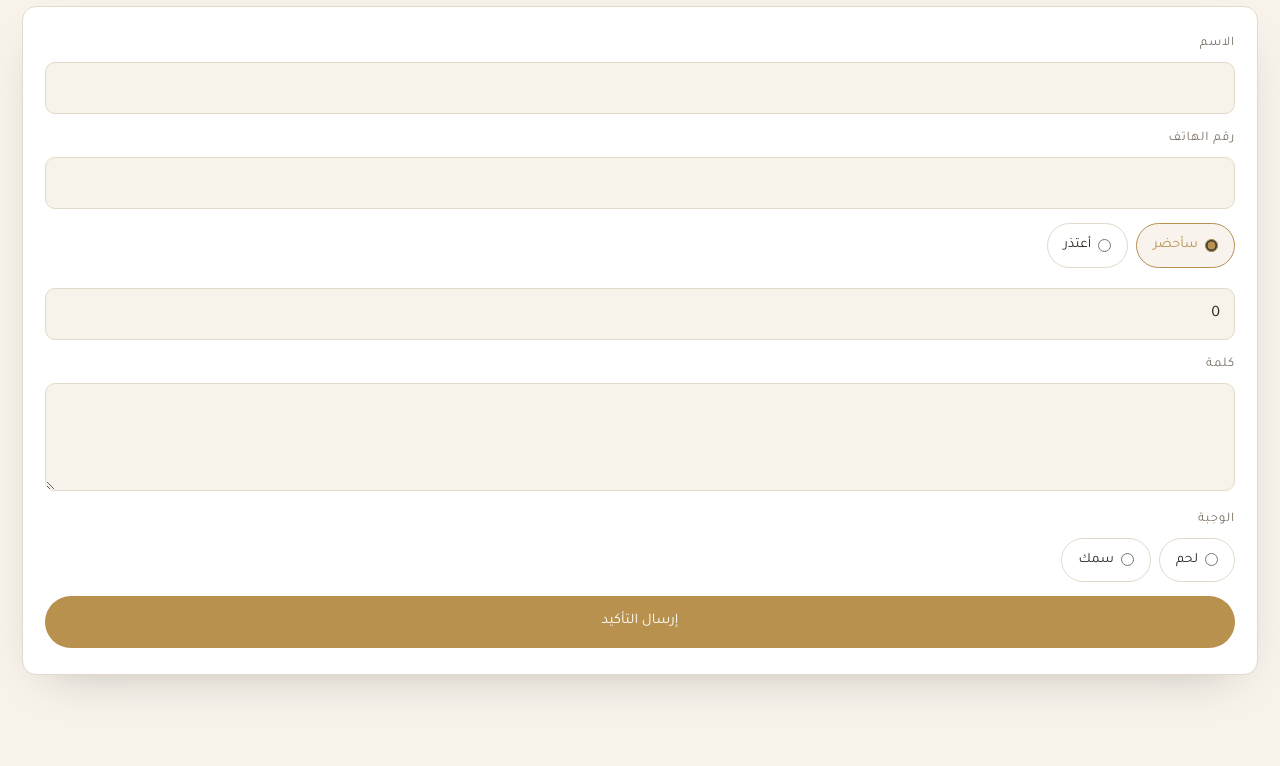
it: Rsvp › posts the answers as JSON with the CSRF header and shows the success state and pass
Type "منى" into the field named "name" at (640, 88), box [45,62,1235,114]
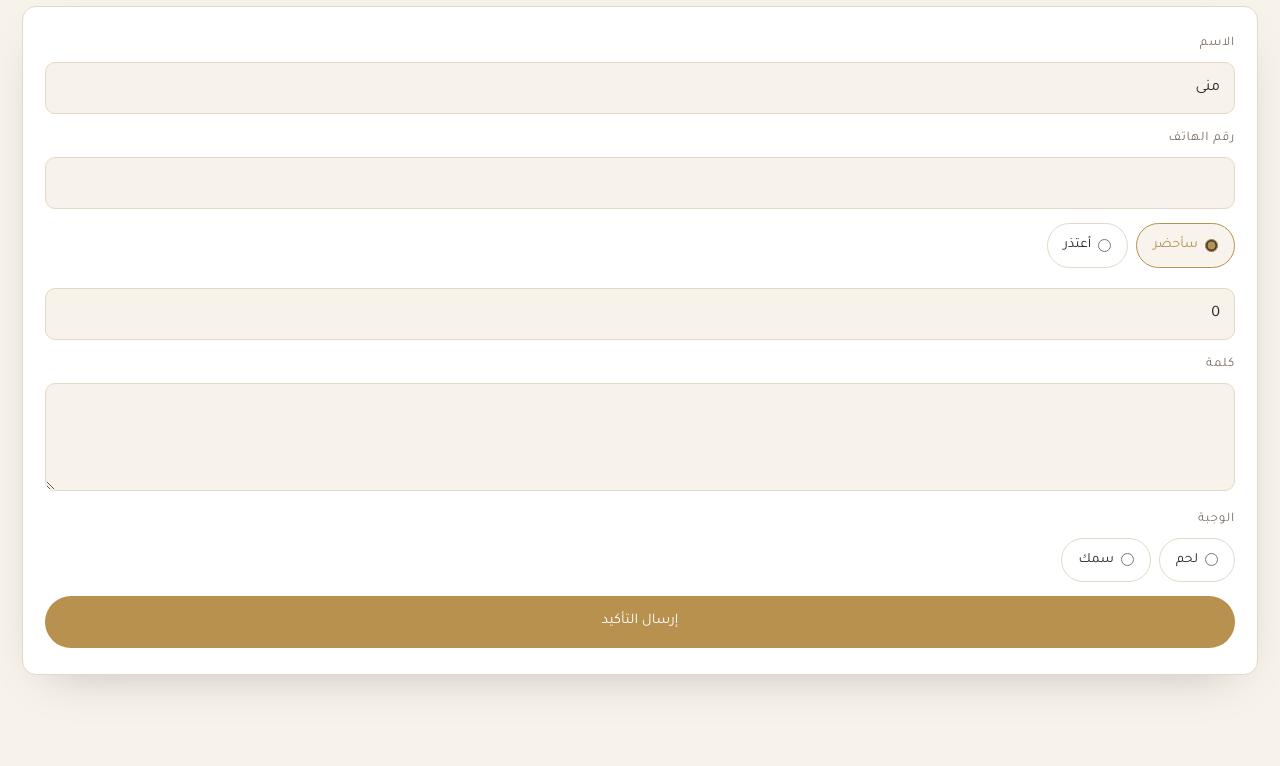
Click the radio button labelled "لحم" at (1212, 560), box [1205,553,1218,566]
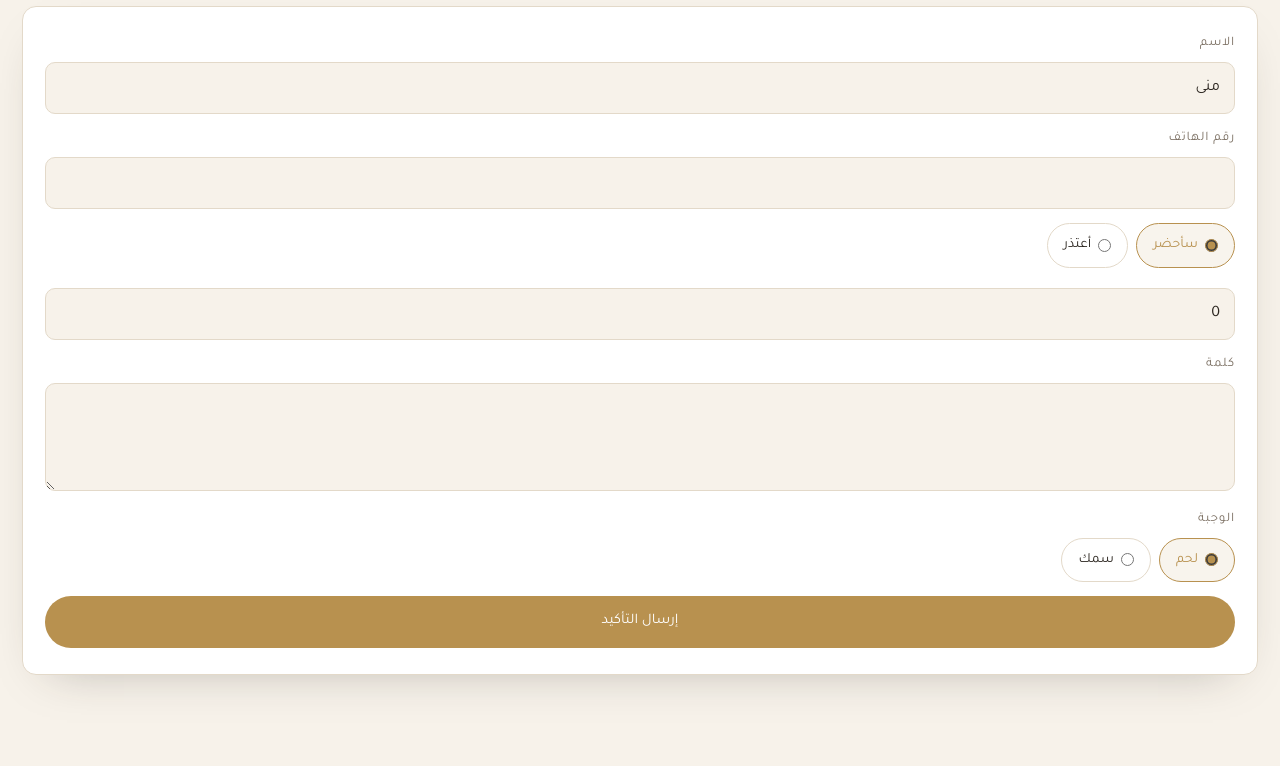
Submit the form
(page scrolled)
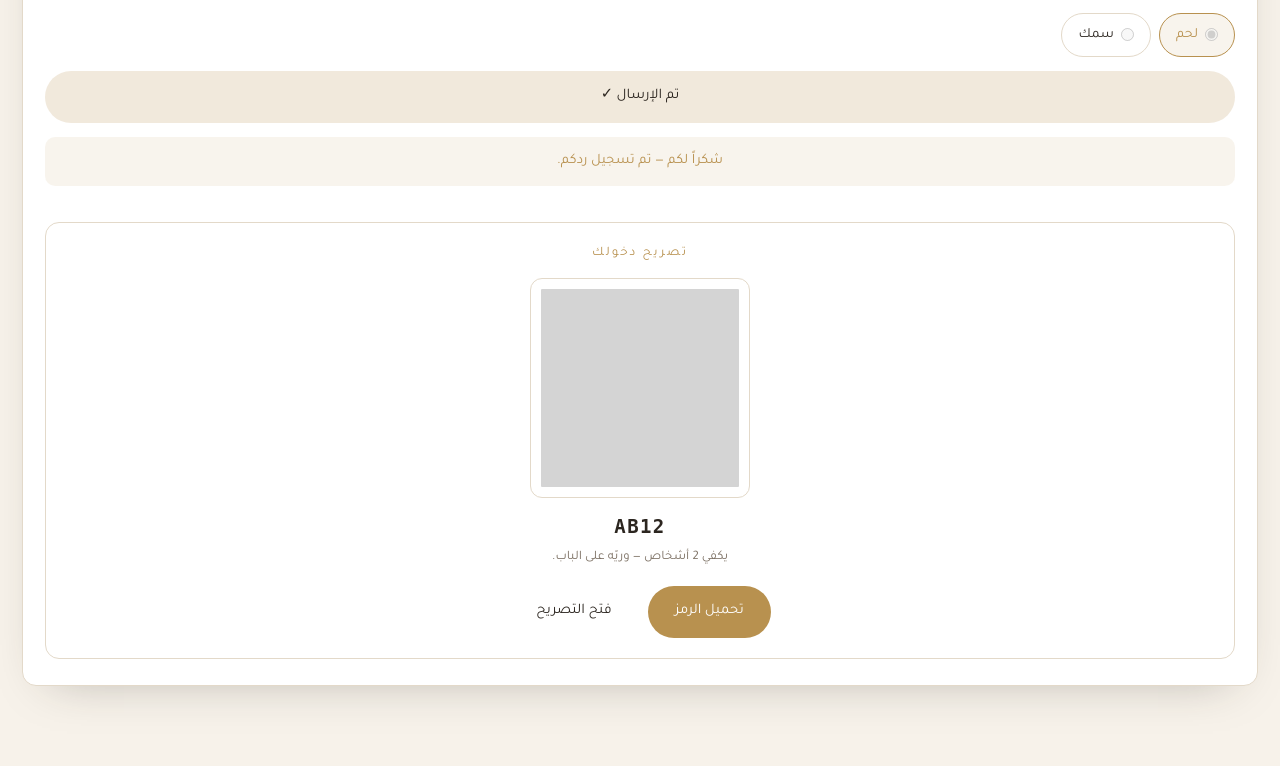
Check: the text "AB12" is shown, box [614,515,666,537]
Check: the button "تم الإرسال ✓" is disabled, box [45,71,1235,123]
Check: the text "تصريح دخولك" is shown, box [592,247,688,260]
